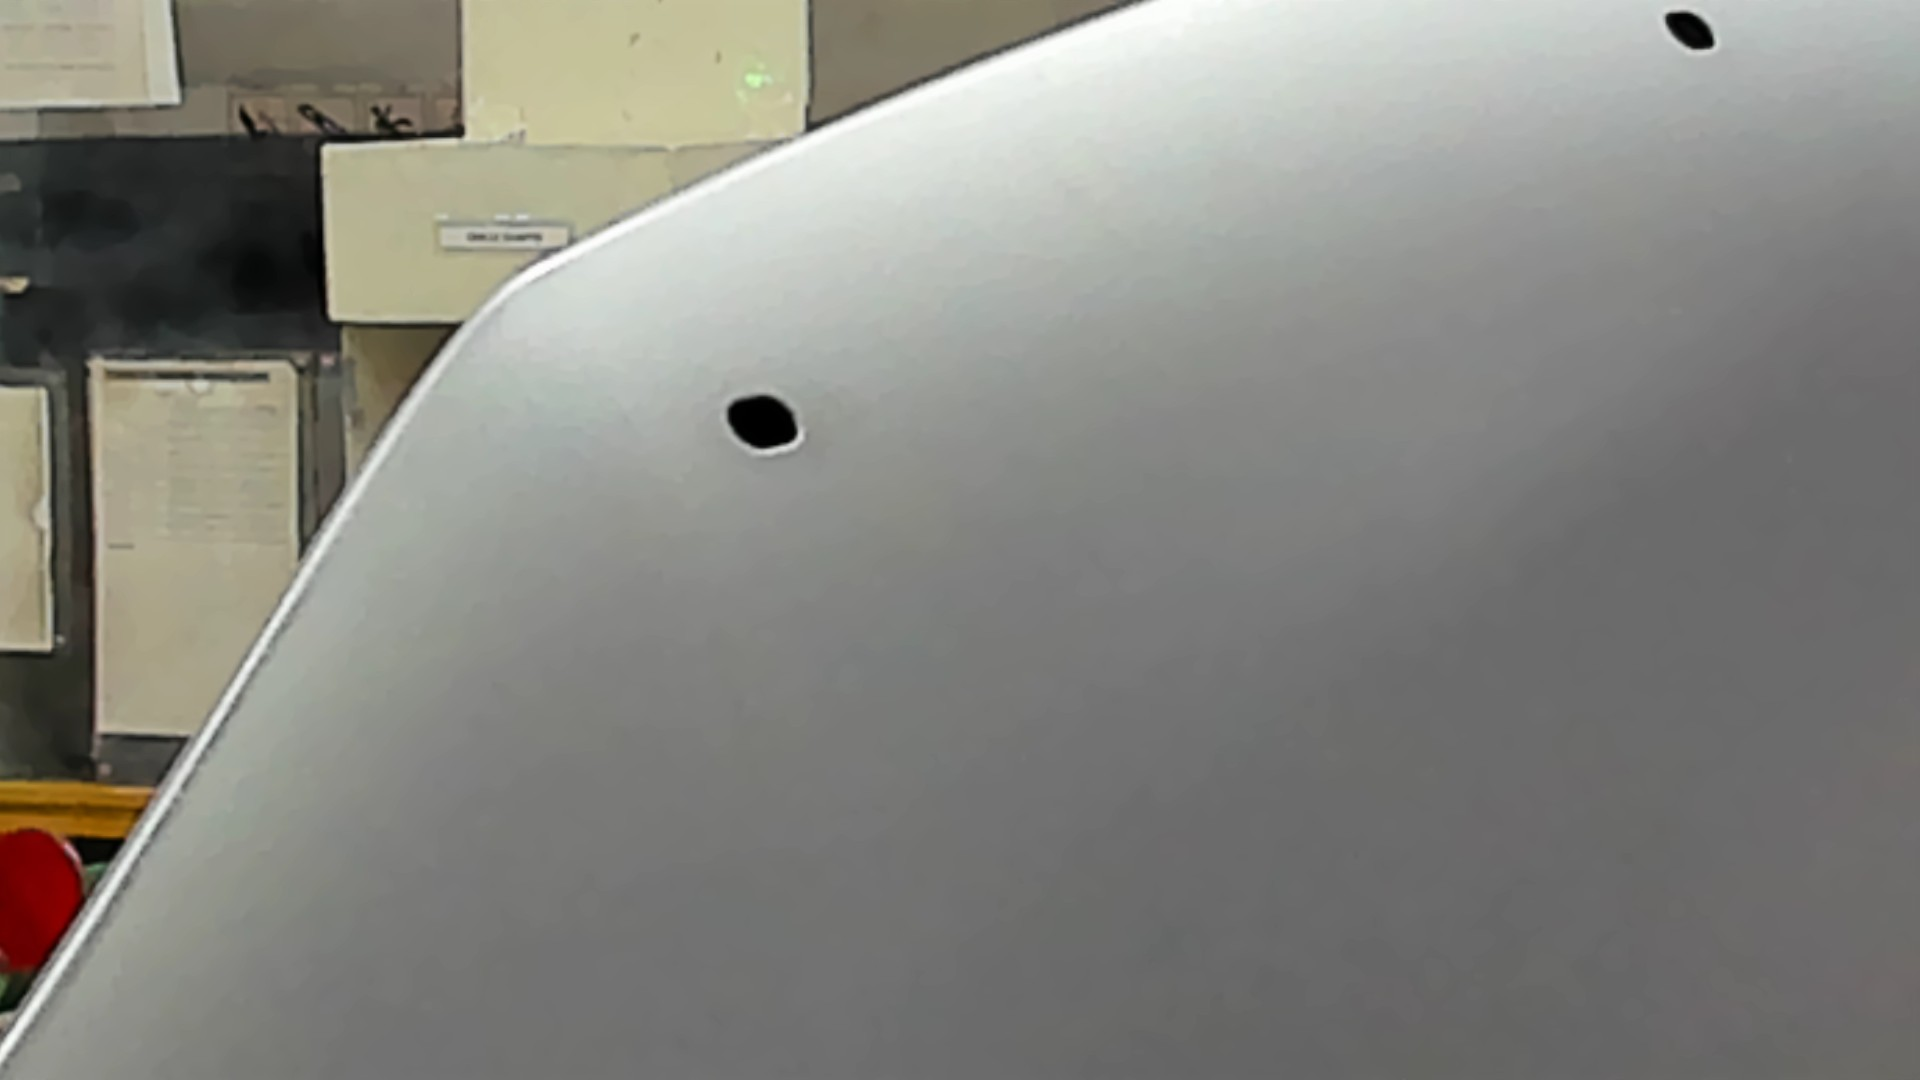chico: (709, 382, 818, 468), (1656, 1, 1734, 69)
